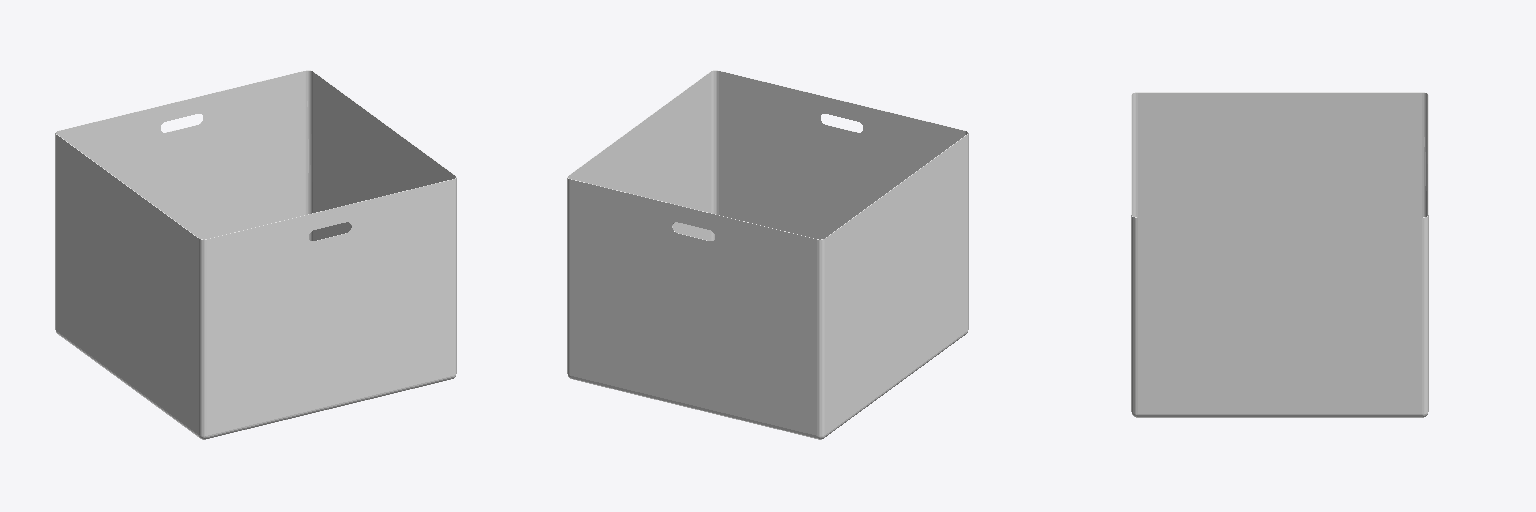
Rendered from warehouse_bin_texture.obj.
The picture shows the model from 3 angles: view 1: azimuth 30°, elevation 25°; view 2: azimuth 150°, elevation 25°; view 3: azimuth 270°, elevation 25°; orthographic projection.
Visible parts, largest first — view 1: Full_Sized_Warehouse_Bin; view 2: Full_Sized_Warehouse_Bin; view 3: Full_Sized_Warehouse_Bin.
Boxes of the visible parts, box(x1,y1,x2,y2) form: Full_Sized_Warehouse_Bin: box(55, 70, 456, 439); Full_Sized_Warehouse_Bin: box(567, 70, 968, 439); Full_Sized_Warehouse_Bin: box(1131, 92, 1428, 417).
Bounding box in the file's own units: 1.22 × 0.9144 × 1.22.